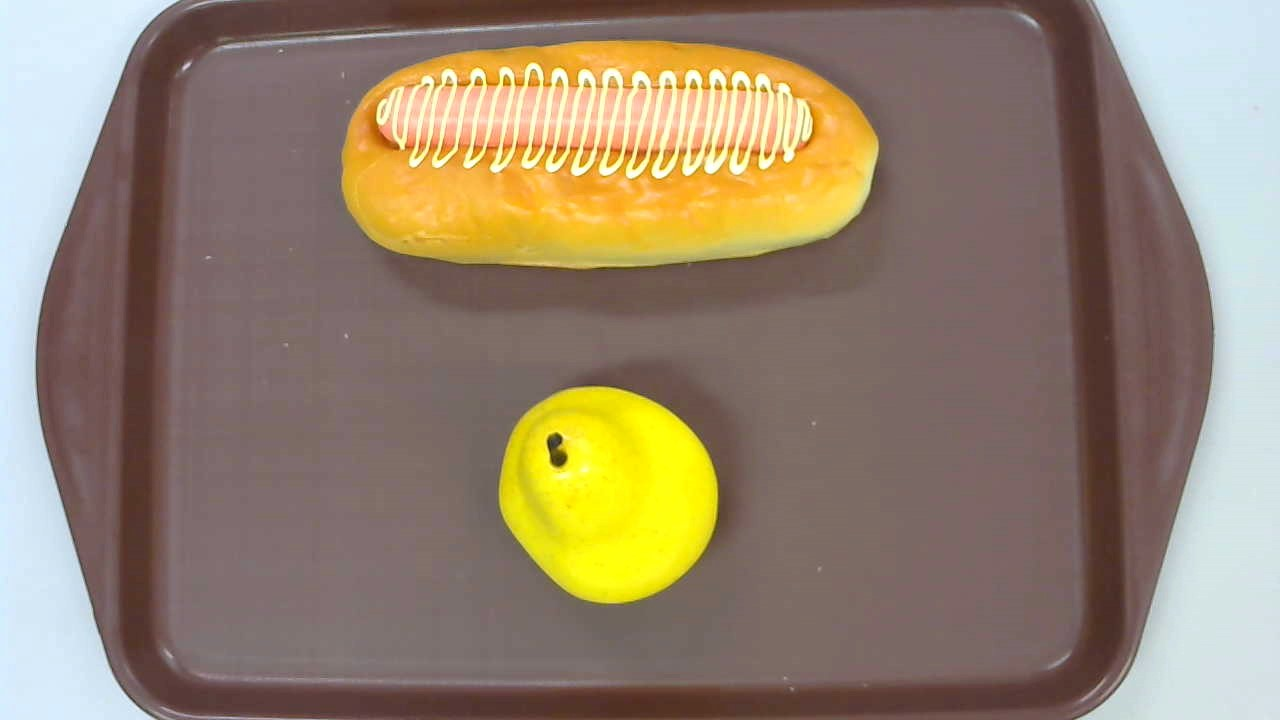hot dog: (340, 38, 879, 271)
yellow pear: (498, 385, 717, 603)
